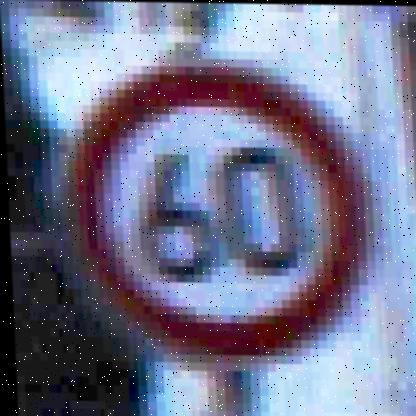Speed Limit -60-: (57, 61, 379, 365)
